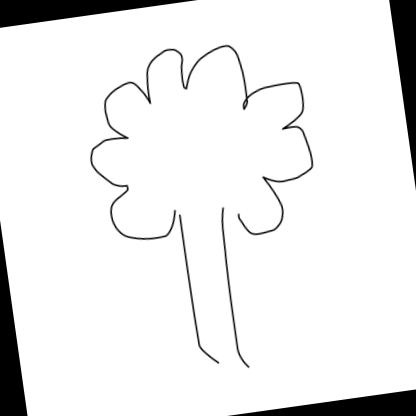crown_cloud: (66, 26, 326, 260)
trunk_straight: (169, 224, 252, 352)
